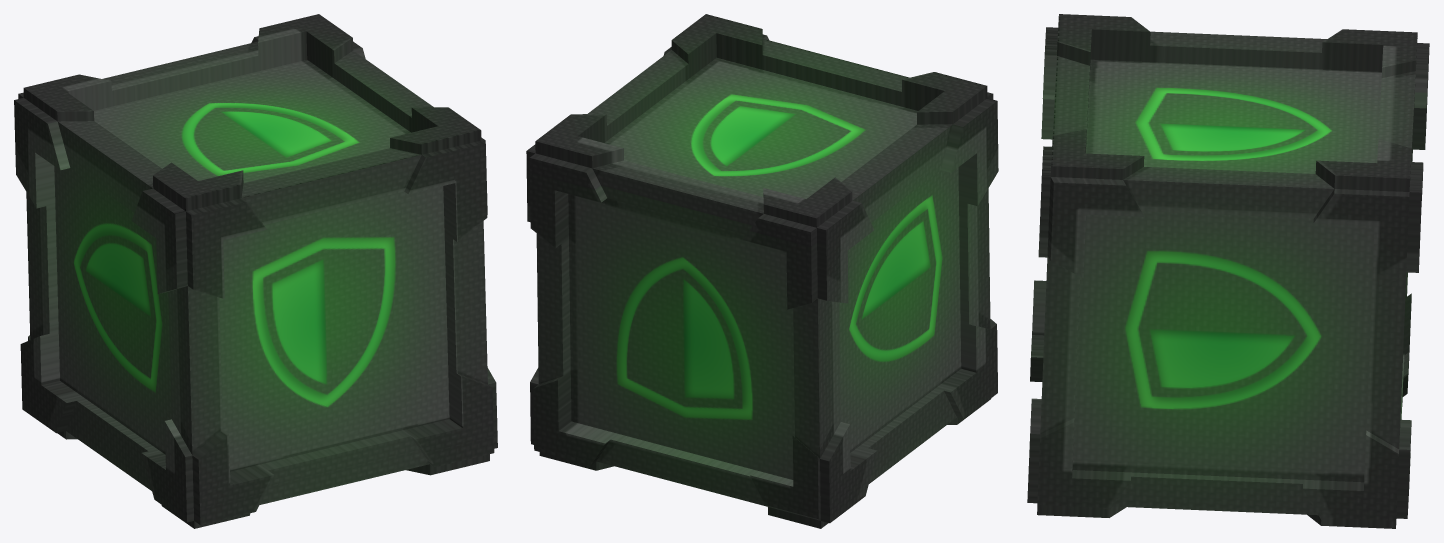
File: consumivel3.obj
3 views of the same model, side by side, from view 1: azimuth 30°, elevation 25°; view 2: azimuth 150°, elevation 25°; view 3: azimuth 270°, elevation 25° (orthographic). The views are drawn at different scales.
Parts seen in each view (by area): view 1: Cube.002; view 2: Cube.002; view 3: Cube.002.
Boxes of the visible parts, x1,y1,x2,y2 form: Cube.002: (14, 14, 497, 528); Cube.002: (526, 14, 998, 528); Cube.002: (1027, 14, 1429, 528).
Size of the model in its own units: 4.72 by 4.77 by 4.83.
